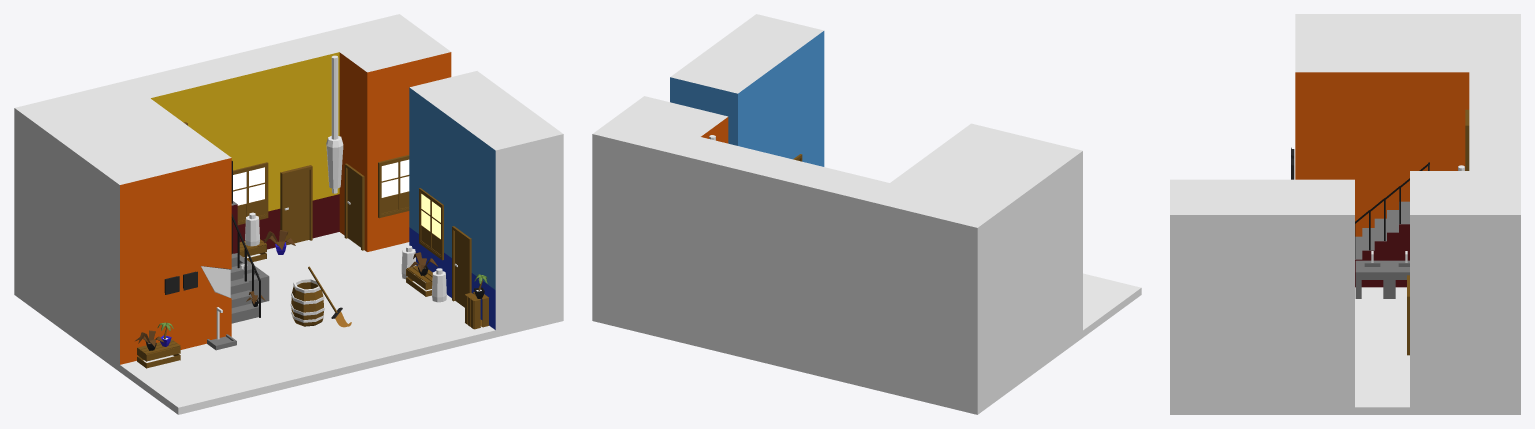
File: villa.glb
The picture shows the model from 3 angles, left to right: view 1: azimuth 30°, elevation 25°; view 2: azimuth 150°, elevation 25°; view 3: azimuth 270°, elevation 25°; orthographic projection. The views are drawn at different scales.
Parts seen in each view (by area): view 1: Cube_0, Door_3, Cube.002_7, Cube.003_9, Door.001_4, Cube.004_10, Cube.016_26, Cube.001_8, Cube.005_12, Door.002_5, Cube.012_22, Cube.006_15 (+4 smaller); view 2: Cube_0; view 3: Cube_0, Cube.004_10, Cube.013_23, Cube.014_24.
Part boxes in pixels (<box>): Cube_0: <box>14,14,563,414</box>; Door_3: <box>280,165,312,245</box>; Cube.002_7: <box>233,162,268,225</box>; Cube.003_9: <box>378,155,409,218</box>; Door.001_4: <box>344,163,364,250</box>; Cube.004_10: <box>230,201,258,323</box>; Cube.016_26: <box>326,55,343,193</box>; Cube.001_8: <box>419,188,443,260</box>; Cube.005_12: <box>290,278,324,326</box>; Door.002_5: <box>452,226,471,307</box>; Cube.012_22: <box>137,339,180,368</box>; Cube.006_15: <box>465,292,489,329</box>; Cube_0: <box>592,14,1141,414</box>; Cube_0: <box>1170,14,1520,414</box>; Cube.004_10: <box>1355,201,1409,287</box>; Cube.013_23: <box>1355,251,1409,298</box>; Cube.014_24: <box>1355,162,1429,258</box>.
Size of what is drawn, in the model's own units: 18.26 by 8.47 by 13.46.
